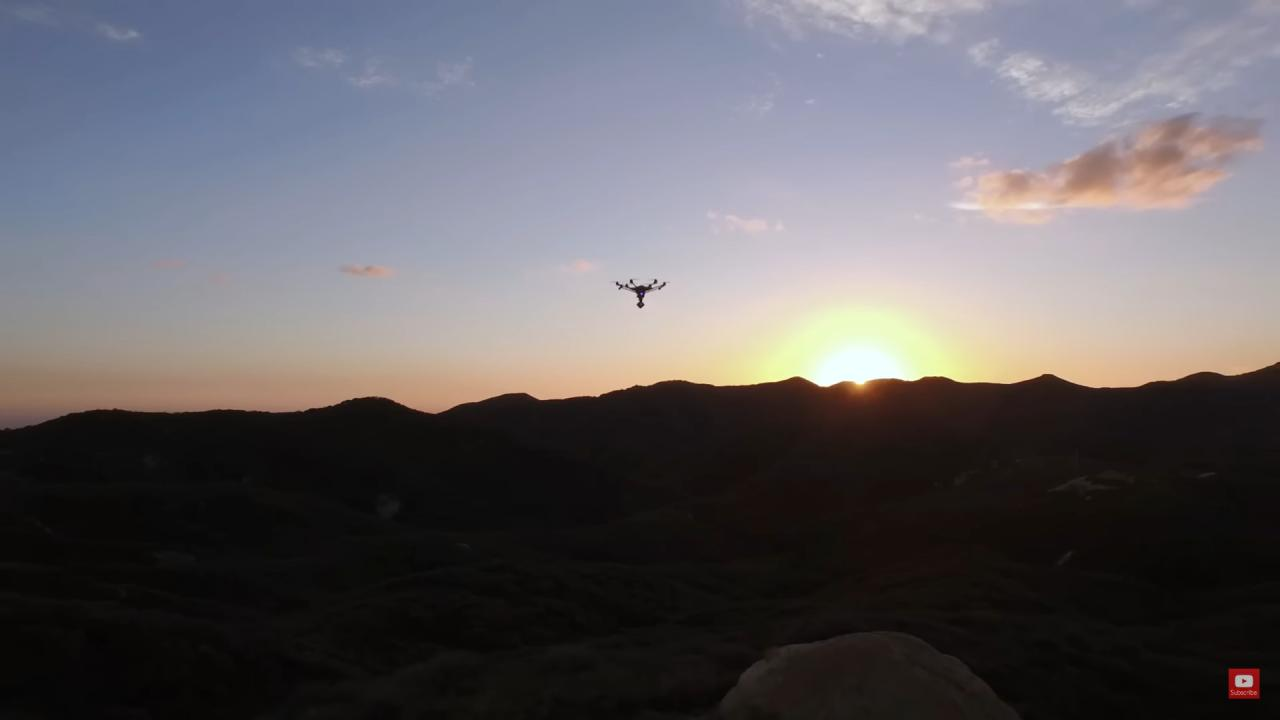Drone: (602, 264, 678, 318)
